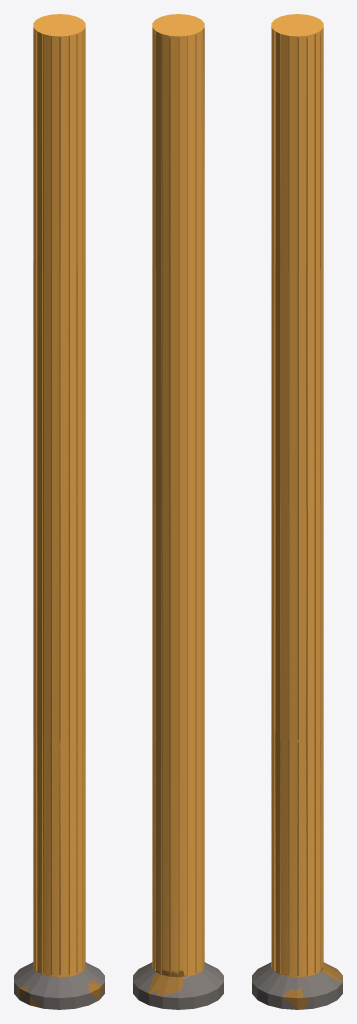
Rendered from shipPole.fbx.
3 renders of one model, left to right at view 1: azimuth 30°, elevation 25°; view 2: azimuth 210°, elevation 25°; view 3: azimuth 330°, elevation 25°, orthographic.
Visible parts, largest first — view 1: Cylinder010; view 2: Cylinder010; view 3: Cylinder010.
Part boxes in pixels (<box>): Cylinder010: <box>14,14,104,1009</box>; Cylinder010: <box>133,14,223,1009</box>; Cylinder010: <box>252,14,342,1009</box>.
Size of the model in its own units: 83.19 by 962 by 81.92.
Materials: 1 (1 with a texture image).
